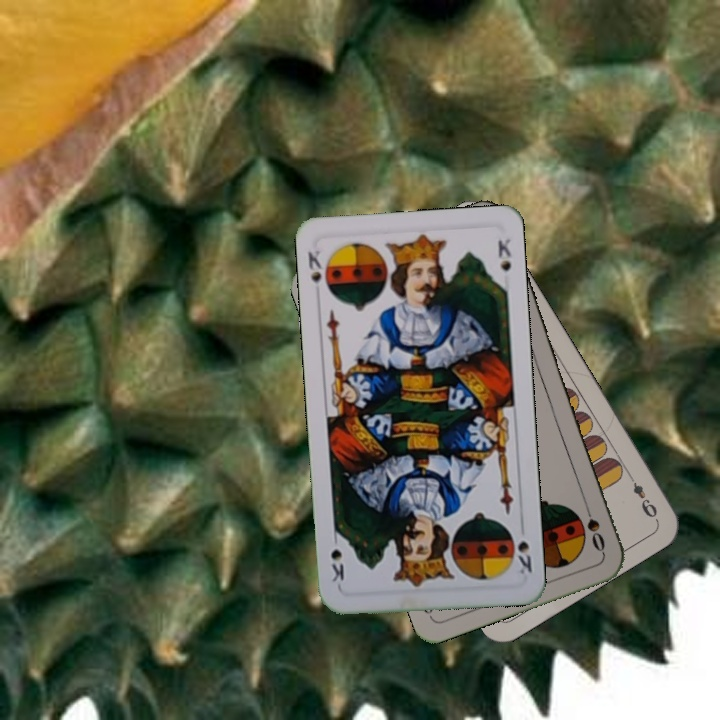E9: (624, 470, 661, 523)
SK: (303, 247, 324, 301), (512, 536, 534, 577)
SO: (580, 498, 608, 555)
